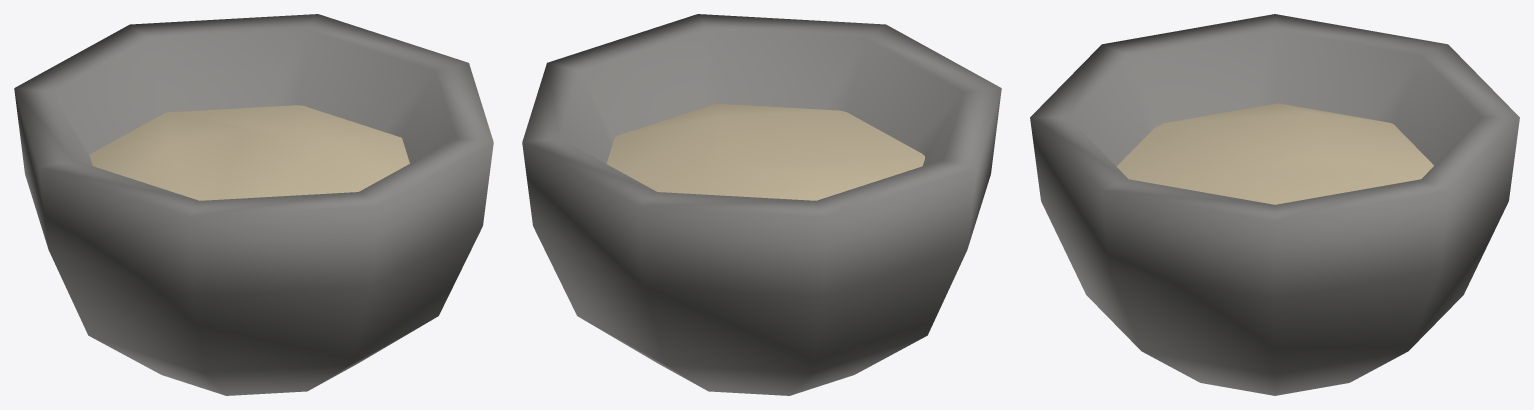
Rendered from rpgpp_ag_mortar_01c.fbx.
3 views of the same model, side by side, from view 1: azimuth 30°, elevation 25°; view 2: azimuth 150°, elevation 25°; view 3: azimuth 270°, elevation 25° (orthographic).
Parts seen in each view (by area): view 1: rpgpp_ag_mortar_01c; view 2: rpgpp_ag_mortar_01c; view 3: rpgpp_ag_mortar_01c.
Boxes of the visible parts, left/top/right/bottom form: rpgpp_ag_mortar_01c: left=14, top=14, right=493, bottom=395; rpgpp_ag_mortar_01c: left=522, top=14, right=1001, bottom=395; rpgpp_ag_mortar_01c: left=1030, top=14, right=1519, bottom=395.
Size of the model in its own units: 0.2871 by 0.1512 by 0.2871.
